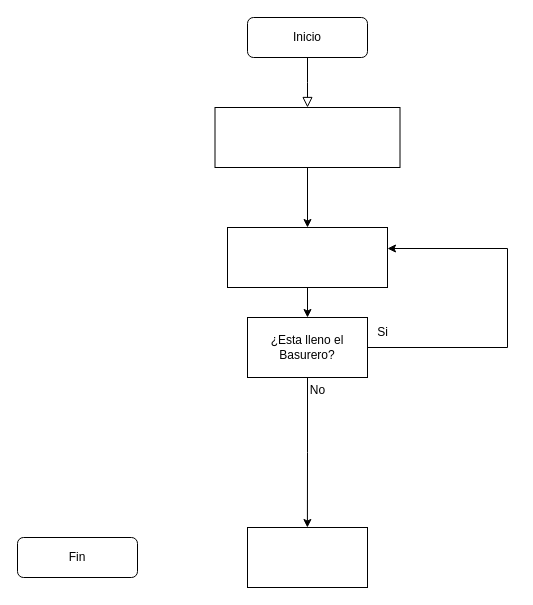
The diagram is 533 pixels wide and 605 high, and some of its shapes have lost their labels. Here are the shapes that lost their labels. From the top down, the centre of each, then its label:
pixel 307 137: Apertura del basurero por medio de un demux
pixel 307 257: Retirar Basura por activación de sensor de llenado
